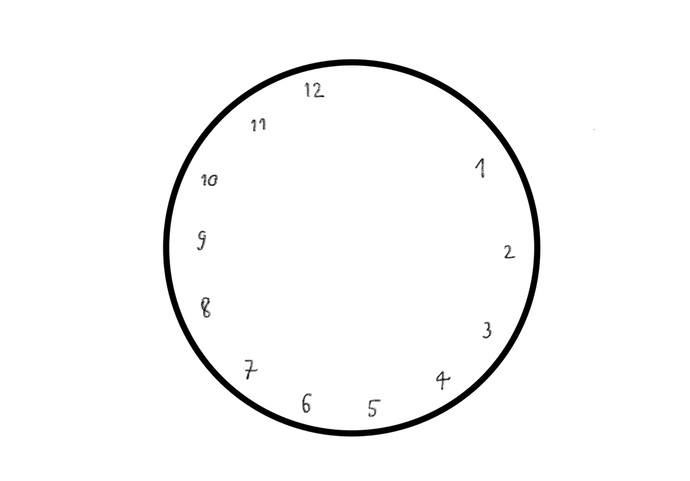eight: (195, 289, 220, 326)
eleven: (249, 110, 270, 137)
five: (363, 392, 382, 422)
four: (431, 363, 452, 393)
nine: (193, 219, 208, 261)
one: (472, 156, 493, 184)
seven: (236, 352, 261, 385)
six: (299, 386, 318, 416)
ten: (198, 166, 222, 190)
three: (478, 313, 496, 343)
twelve: (300, 79, 332, 106)
two: (501, 234, 522, 268)
